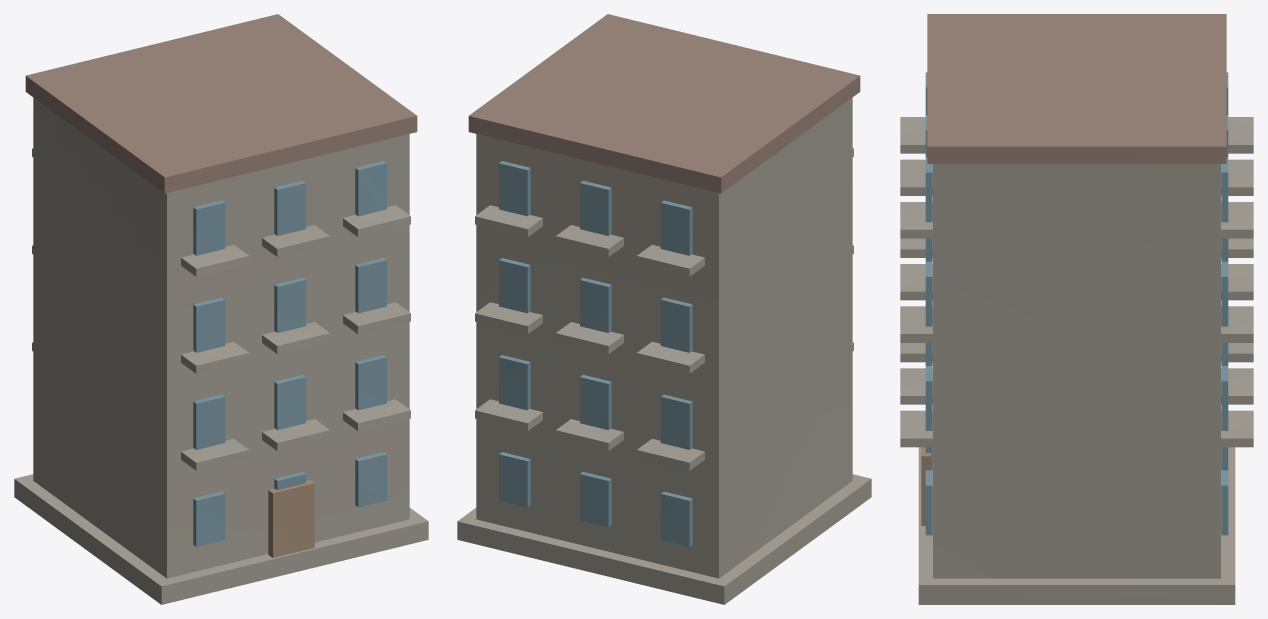
The model's file is apartment-04.glb.
The picture shows the model from 3 angles, left to right: view 1: azimuth 30°, elevation 25°; view 2: azimuth 150°, elevation 25°; view 3: azimuth 270°, elevation 25°; orthographic projection. The views are drawn at different scales.
Visible parts, largest first — view 1: world; view 2: world; view 3: world.
Boxes of the visible parts, x1=… form: world: x1=14, y1=14, x2=428, y2=604; world: x1=457, y1=14, x2=871, y2=604; world: x1=900, y1=14, x2=1253, y2=604.
Size of the model in its own units: 1.21 by 1.83 by 1.29.
